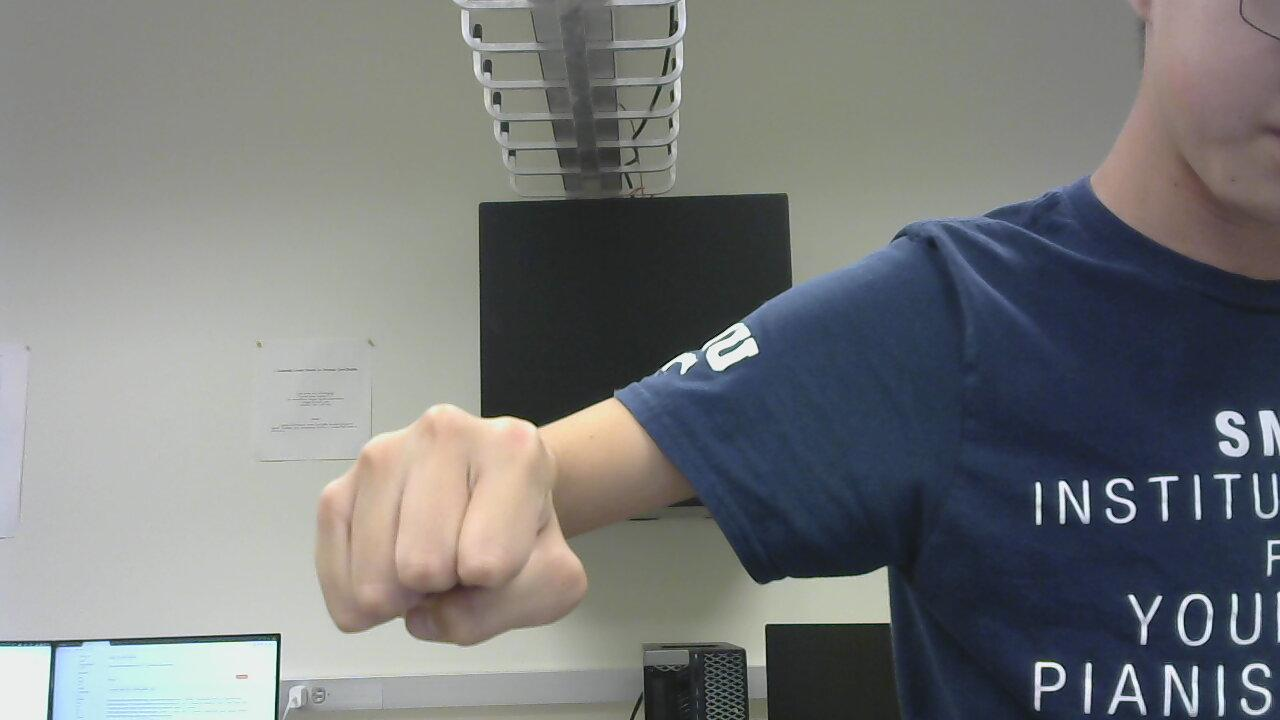fist: (304, 393, 589, 655)
